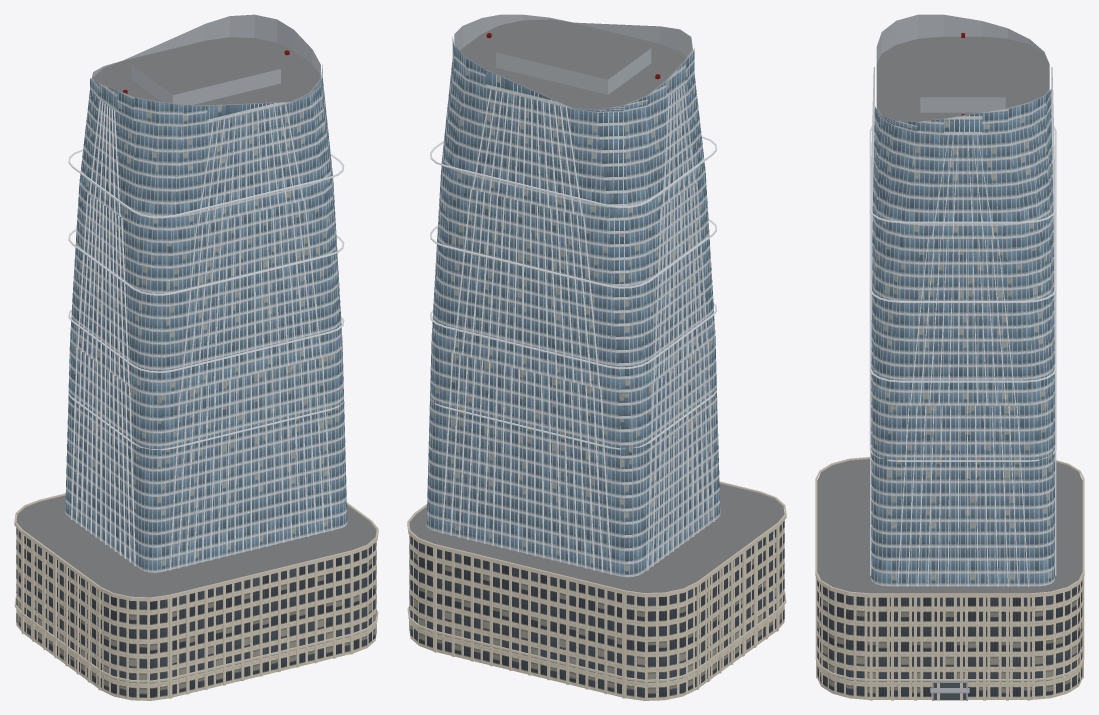
Rendered from tokyo_midtown_hibiya.glb.
3 renders of one model, left to right at view 1: azimuth 30°, elevation 25°; view 2: azimuth 150°, elevation 25°; view 3: azimuth 270°, elevation 25°, orthographic. The views are drawn at different scales.
Parts seen in each view (by area): view 1: tokyo_midtown_hibiya; view 2: tokyo_midtown_hibiya; view 3: tokyo_midtown_hibiya.
Part boxes in pixels (left/top/right/bottom): tokyo_midtown_hibiya: left=14, top=14, right=378, bottom=700; tokyo_midtown_hibiya: left=407, top=14, right=786, bottom=700; tokyo_midtown_hibiya: left=815, top=14, right=1084, bottom=700.
Size of the model in its own units: 100 by 192 by 81.01.
3 materials, 3 textured.
